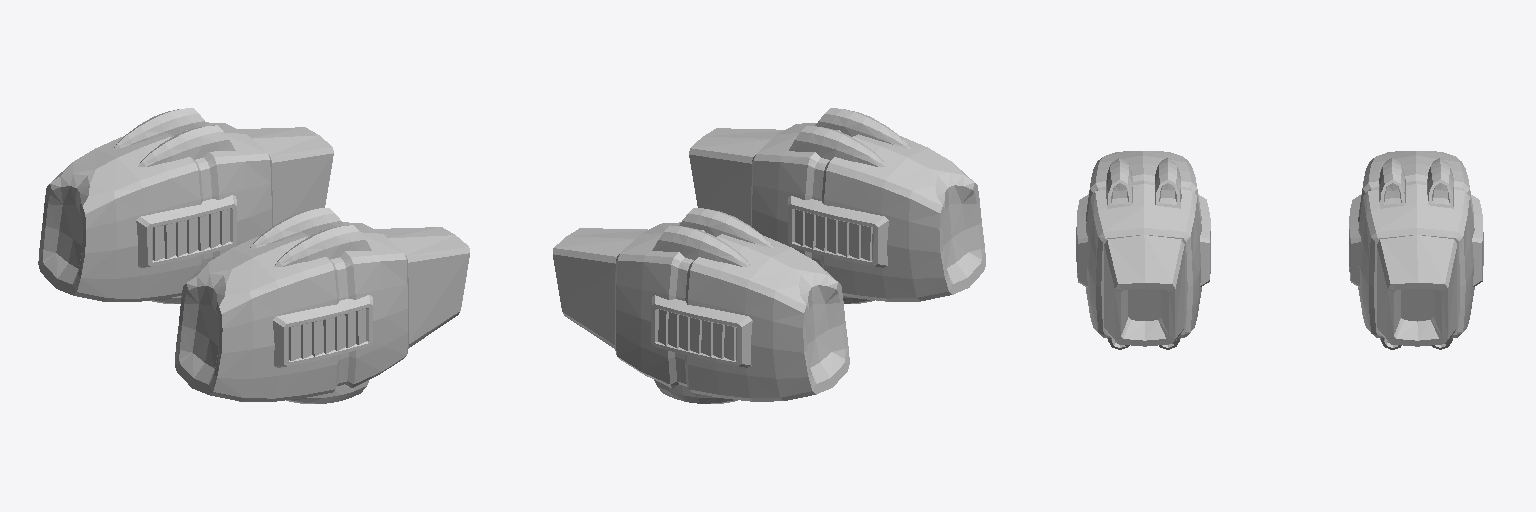
The model's file is Third Armor Buster US.obj.
3 renders of one model, left to right at view 1: azimuth 30°, elevation 25°; view 2: azimuth 150°, elevation 25°; view 3: azimuth 270°, elevation 25°, orthographic.
Parts seen in each view (by area): view 1: CH043_000_U_S_-_ThirdArmor_BusterMesh_L_m_90084_[TCP2_Smoothed], CH043_000_U_S_-_ThirdArmor_BusterMesh_R_m_90086_[TCP2_Smoothed]; view 2: CH043_000_U_S_-_ThirdArmor_BusterMesh_R_m_90086_[TCP2_Smoothed], CH043_000_U_S_-_ThirdArmor_BusterMesh_L_m_90084_[TCP2_Smoothed]; view 3: CH043_000_U_S_-_ThirdArmor_BusterMesh_L_m_90084_[TCP2_Smoothed], CH043_000_U_S_-_ThirdArmor_BusterMesh_R_m_90086_[TCP2_Smoothed].
Part boxes in pixels (left/top/right/bottom): CH043_000_U_S_-_ThirdArmor_BusterMesh_L_m_90084_[TCP2_Smoothed]: left=175, top=208, right=469, bottom=403; CH043_000_U_S_-_ThirdArmor_BusterMesh_R_m_90086_[TCP2_Smoothed]: left=38, top=108, right=333, bottom=303; CH043_000_U_S_-_ThirdArmor_BusterMesh_R_m_90086_[TCP2_Smoothed]: left=553, top=208, right=849, bottom=403; CH043_000_U_S_-_ThirdArmor_BusterMesh_L_m_90084_[TCP2_Smoothed]: left=689, top=108, right=985, bottom=303; CH043_000_U_S_-_ThirdArmor_BusterMesh_L_m_90084_[TCP2_Smoothed]: left=1076, top=151, right=1210, bottom=349; CH043_000_U_S_-_ThirdArmor_BusterMesh_R_m_90086_[TCP2_Smoothed]: left=1349, top=151, right=1483, bottom=349.
Size of the model in its own units: 0.4485 by 0.2815 by 0.5972.